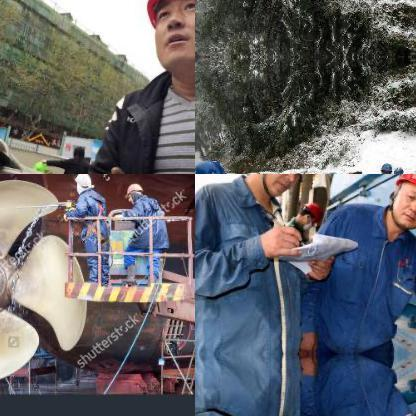Helmet: (144, 0, 194, 69), (247, 174, 326, 199), (389, 174, 415, 229), (195, 156, 230, 173), (300, 199, 324, 223), (121, 180, 145, 202), (72, 174, 95, 193), (378, 160, 393, 173), (392, 162, 405, 173), (321, 168, 344, 173)
